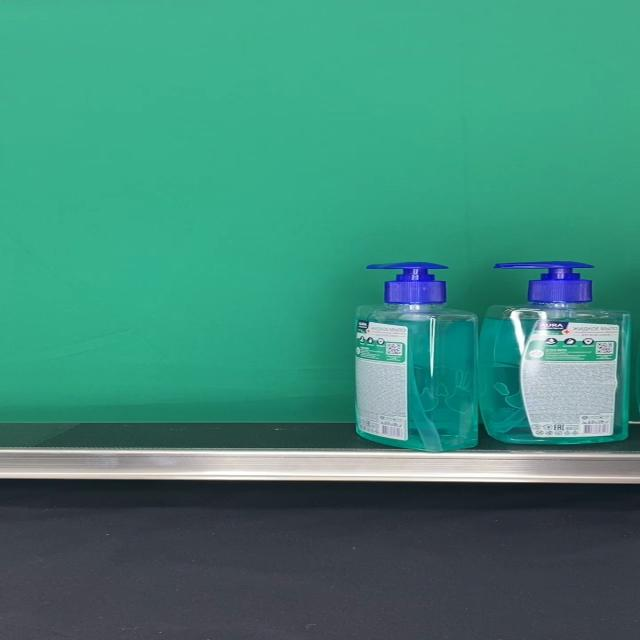Bottle: (480, 262, 631, 444), (354, 262, 478, 452)
Cap: (495, 262, 595, 304), (366, 262, 447, 304)
